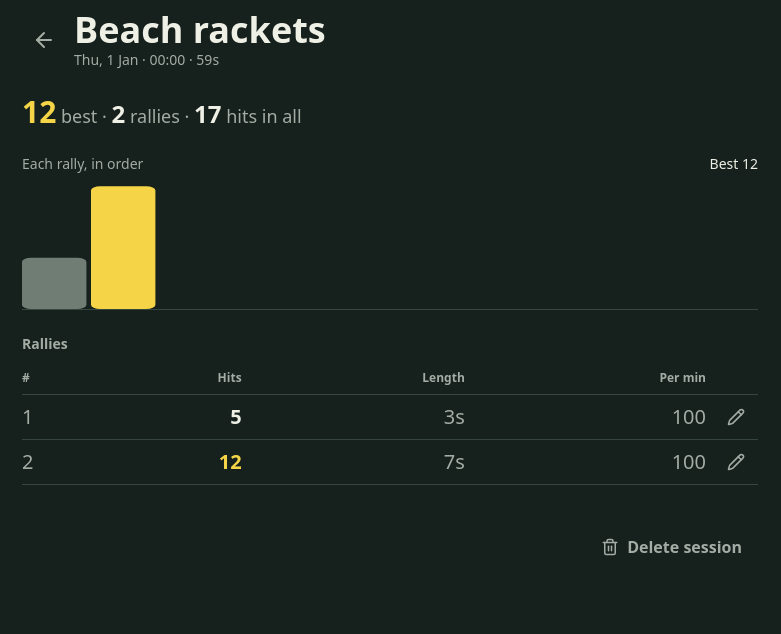
Test: a rally's count can be corrected afterwards
The width and height of the screenshot is (781, 634).
Click the button named "Correct rally 2": (736, 462) [714,440,758,484]
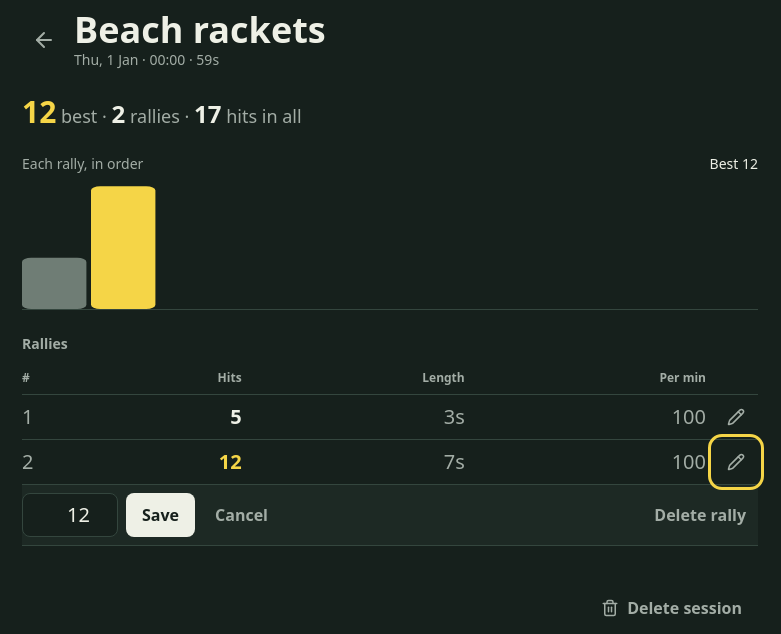
Replace the text in the number field named "Hits in rally 2" with "10": (70, 515) [22,493,118,537]
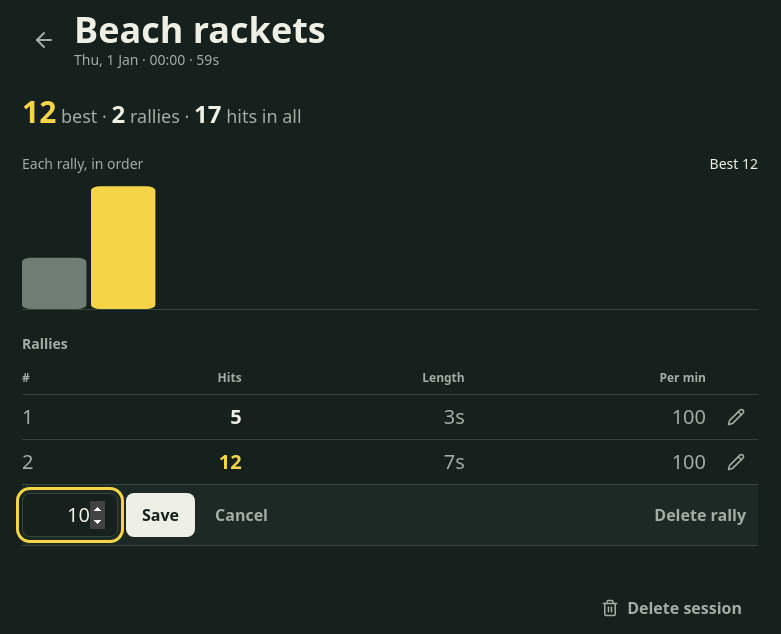
Click the button "Save": (160, 515) [126,493,195,537]
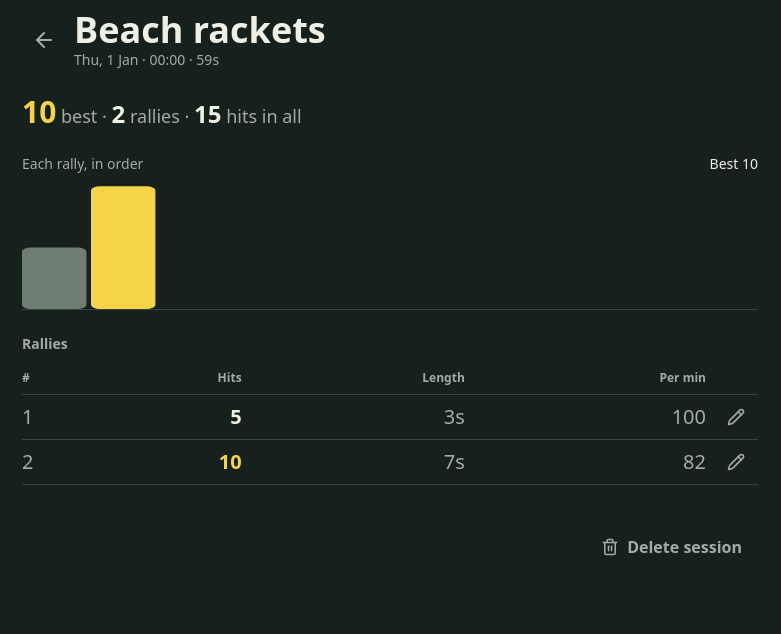
Check: the cell "10" is shown, box [108,440,250,484]
